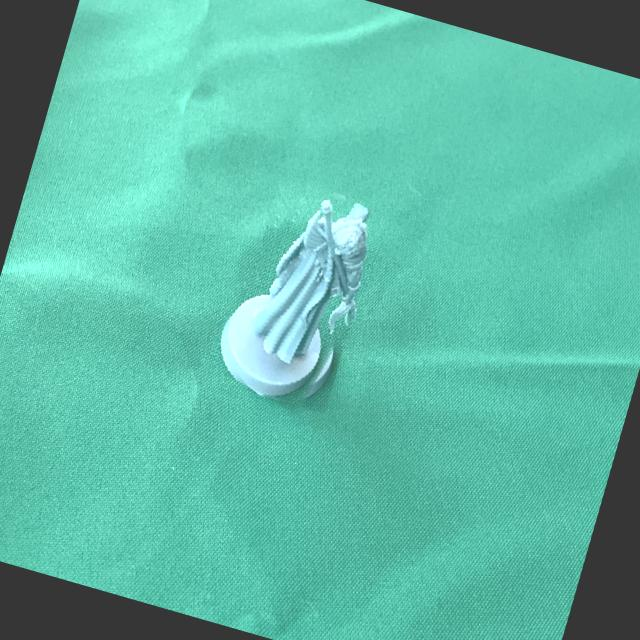isis_follower: (208, 169, 396, 421)
